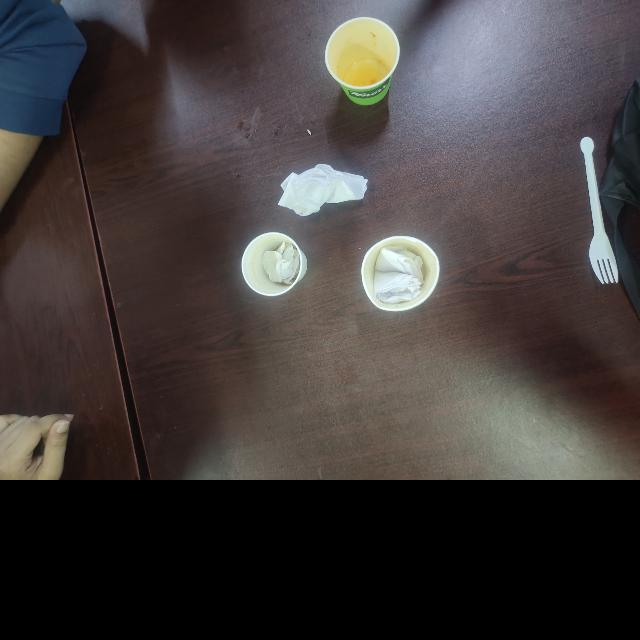kitchen paper: (276, 164, 372, 216), (368, 245, 428, 303), (258, 242, 306, 286)
